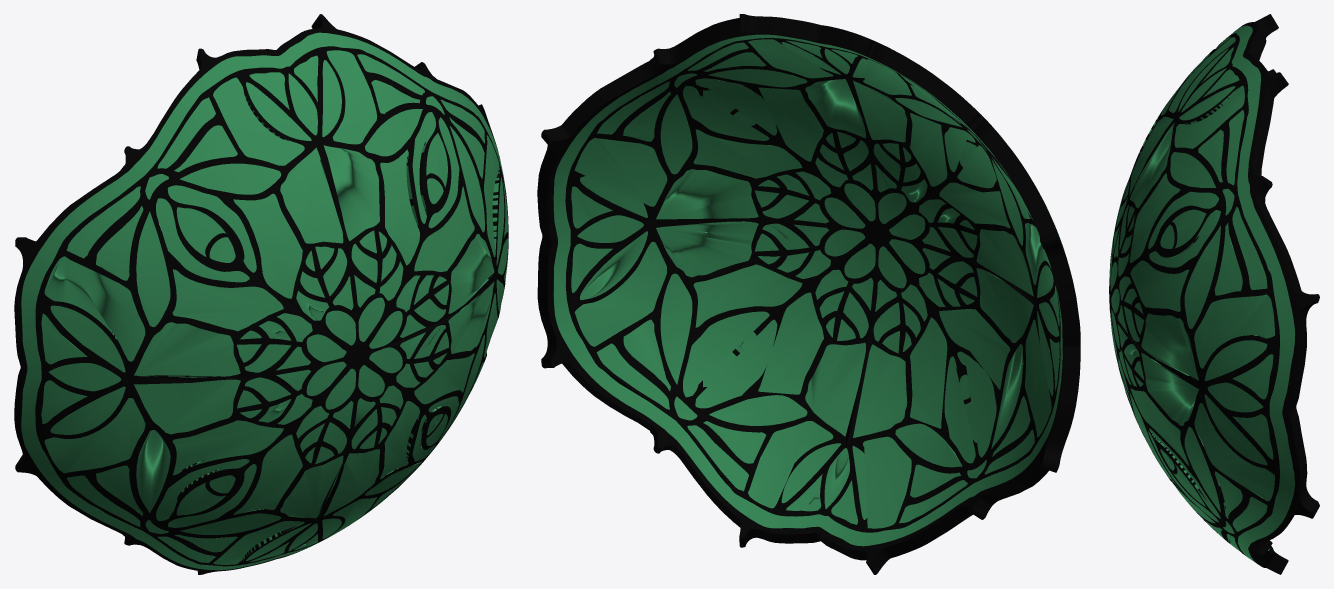
The model's file is the new domeee.fbx.
3 views of the same model, side by side, from view 1: azimuth 30°, elevation 25°; view 2: azimuth 150°, elevation 25°; view 3: azimuth 270°, elevation 25° (orthographic). The views are drawn at different scales.
Parts seen in each view (by area): view 1: Fill_435, Fill_438, Fill_441, Fill_423, Fill_396, Fill_402, Fill_375, Fill_414, Fill_387, Fill_366, Fill_405, Fill_411 (+58 smaller); view 2: Fill_435, Fill_441, Fill_438, Fill_426, Fill_390, Fill_420, Fill_384, Fill_393, Fill_369, Fill_408, Fill_399, Fill_417 (+52 smaller); view 3: Fill_435, Fill_441, Fill_438, Fill_420, Fill_426, Fill_393, Fill_390, Fill_378, Fill_345, Fill_432, Fill_372, Fill_327 (+27 smaller).
Part boxes in pixels (<box>): Fill_435: <box>35,46,508,566</box>; Fill_438: <box>21,32,507,570</box>; Fill_441: <box>14,14,508,574</box>; Fill_423: <box>44,256,145,361</box>; Fill_396: <box>134,322,240,377</box>; Fill_402: <box>134,379,240,434</box>; Fill_375: <box>172,269,283,331</box>; Fill_414: <box>44,398,145,473</box>; Fill_387: <box>280,147,343,243</box>; Fill_366: <box>233,193,302,298</box>; Fill_405: <box>323,145,379,240</box>; Fill_411: <box>213,77,304,165</box>; Fill_435: <box>565,38,1060,532</box>; Fill_441: <box>537,14,1080,574</box>; Fill_438: <box>553,34,1067,546</box>; Fill_426: <box>574,241,666,346</box>; Fill_390: <box>656,221,758,277</box>; Fill_420: <box>574,137,667,206</box>; Fill_384: <box>758,292,823,394</box>; Fill_393: <box>656,169,758,219</box>; Fill_369: <box>693,264,802,327</box>; Fill_408: <box>805,342,865,436</box>; Fill_399: <box>853,344,907,437</box>; Fill_417: <box>863,436,911,528</box>; Fill_435: <box>1109,33,1279,555</box>; Fill_441: <box>1234,14,1319,574</box>; Fill_438: <box>1229,25,1295,562</box>; Fill_420: <box>1194,294,1274,368</box>; Fill_426: <box>1194,403,1274,501</box>; Fill_393: <box>1141,313,1198,380</box>; Fill_390: <box>1141,352,1198,425</box>; Fill_378: <box>1130,260,1189,311</box>; Fill_345: <box>1184,225,1220,328</box>; Fill_432: <box>1174,85,1244,148</box>; Fill_372: <box>1129,173,1180,262</box>; Fill_327: <box>1204,340,1267,380</box>.
Bounding box in the file's own units: 1.36 × 1.33 × 0.5068.
